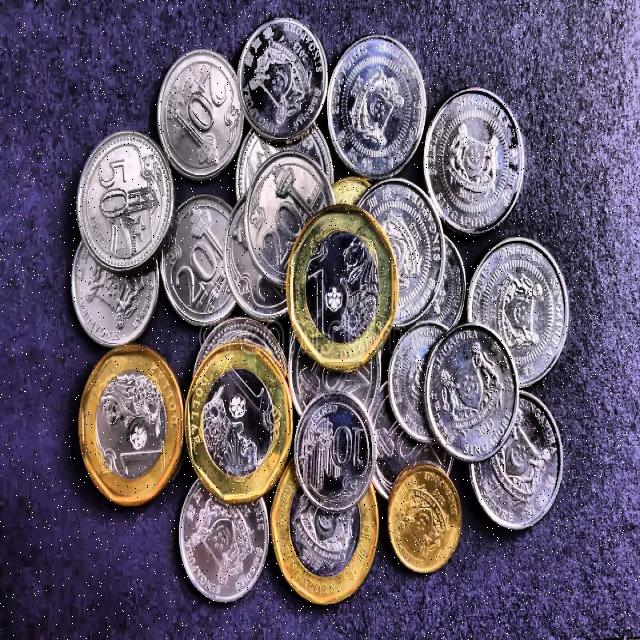coin: (286, 205, 398, 369), (185, 340, 292, 501), (78, 344, 182, 505), (270, 460, 378, 603)
